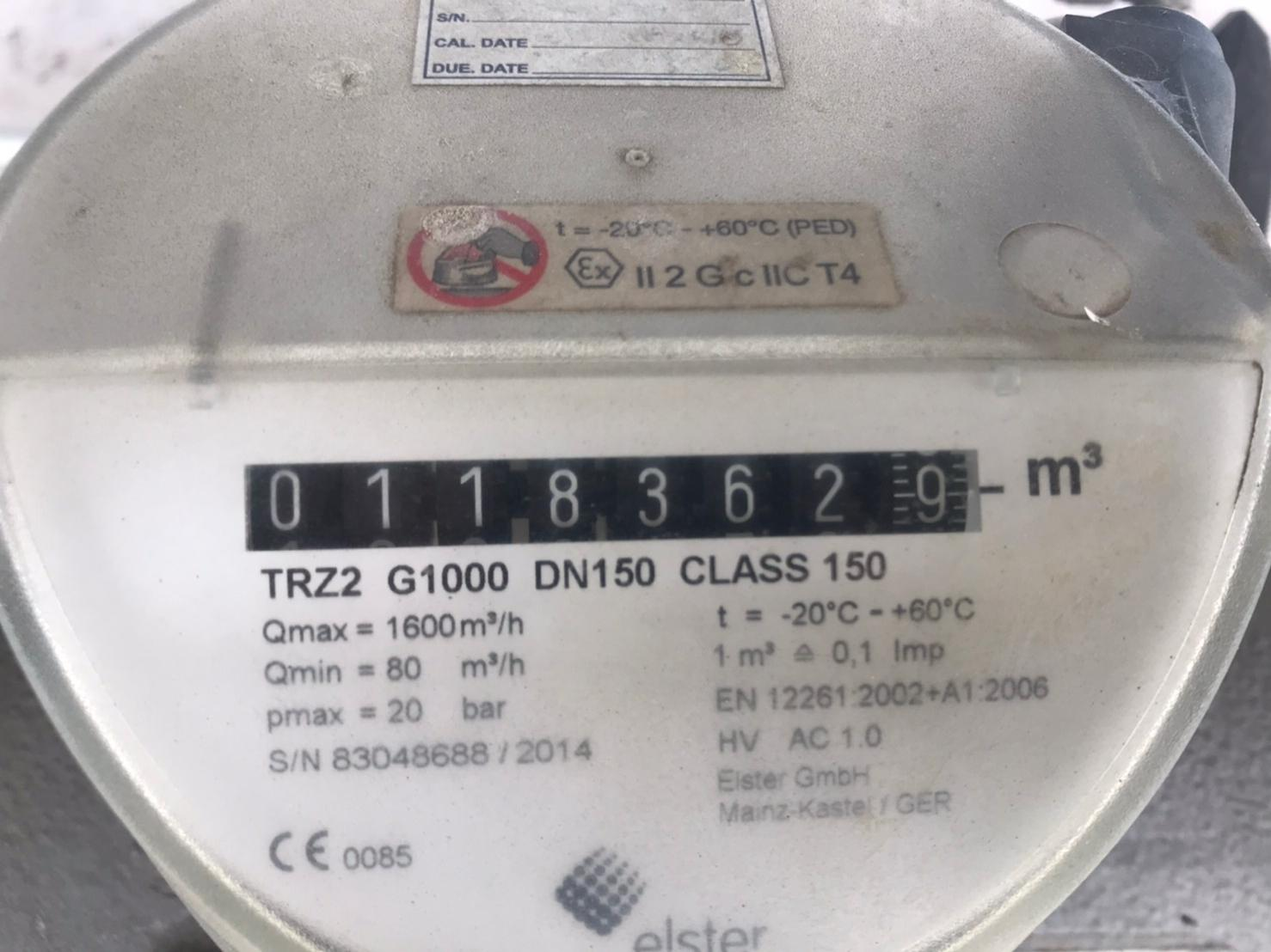analog_dial: (234, 435, 1007, 564)
